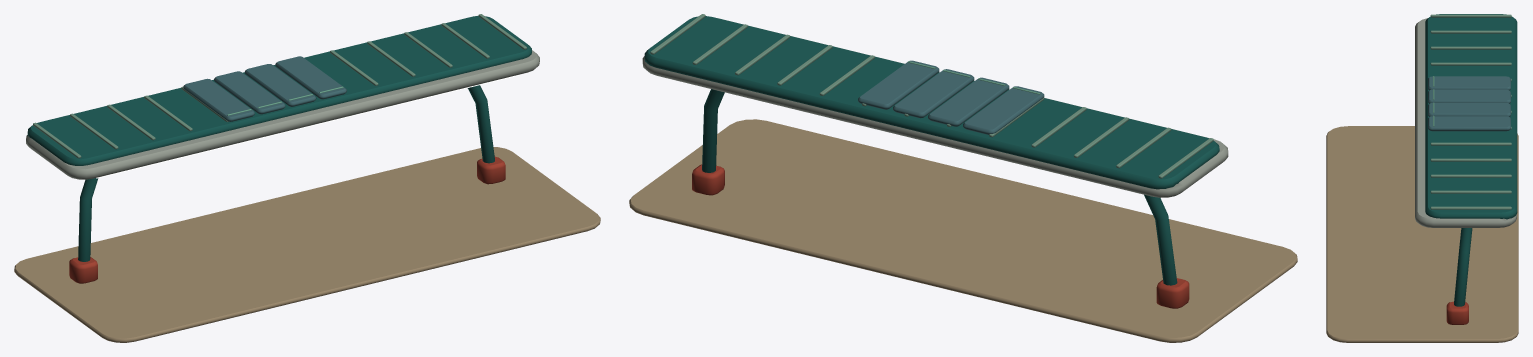
The model's file is vip_park.glb.
3 renders of one model, left to right at view 1: azimuth 30°, elevation 25°; view 2: azimuth 150°, elevation 25°; view 3: azimuth 270°, elevation 25°, orthographic. The views are drawn at different scales.
Parts seen in each view (by area): view 1: VipPark; view 2: VipPark; view 3: VipPark.
Part boxes in pixels (x1,y1,x2,y2): VipPark: (14,14,600,342); VipPark: (629,14,1297,342); VipPark: (1326,14,1518,342).
Bounding box in the file's own units: 11.32 × 3.18 × 4.3.
